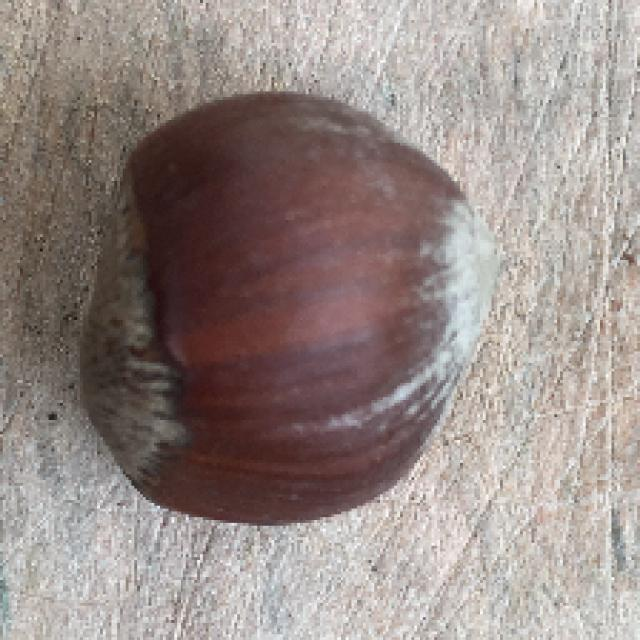damagedHazelnut: (73, 87, 491, 523)
